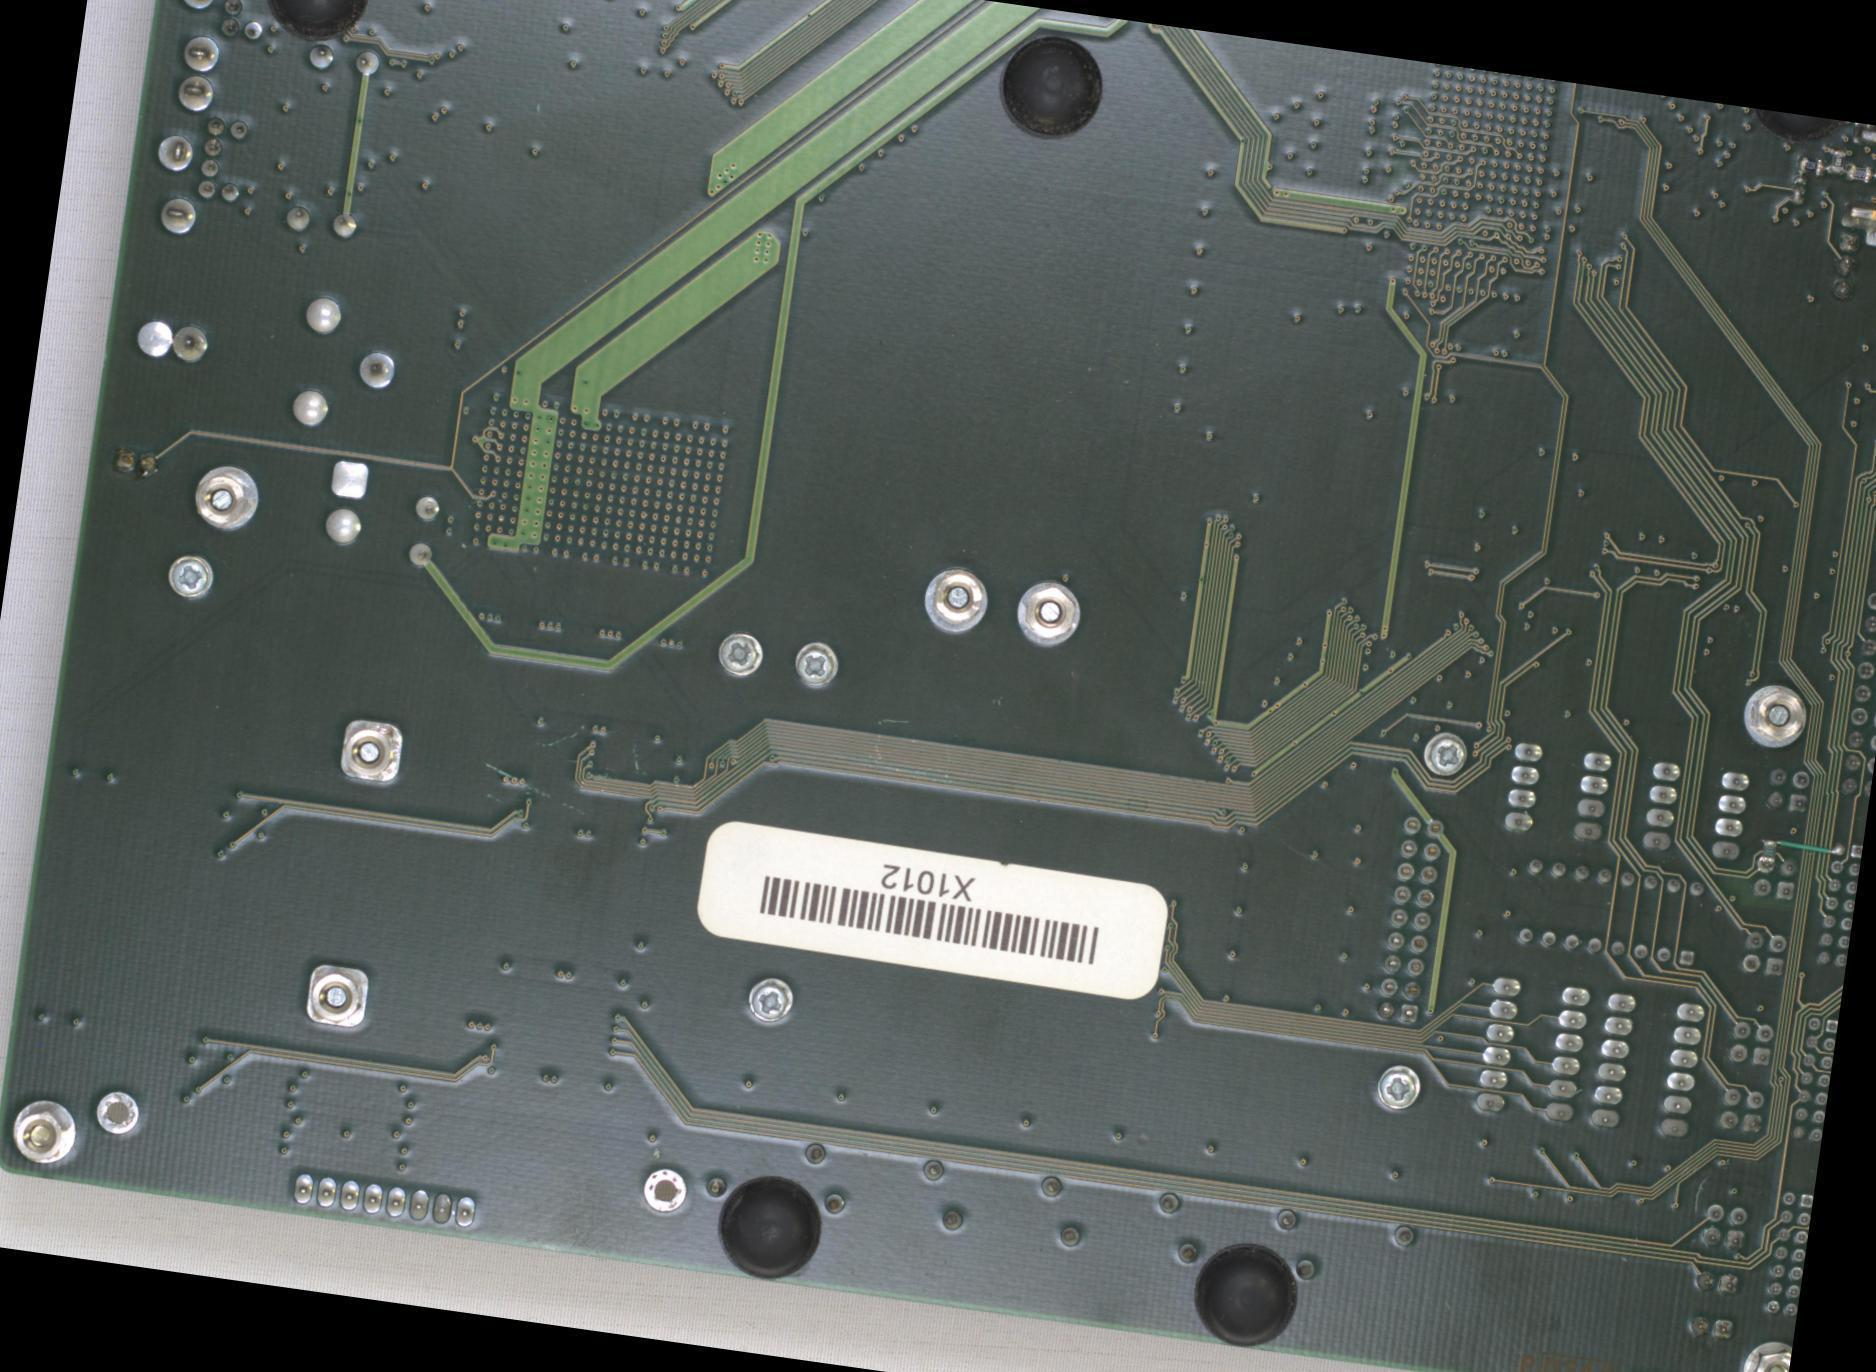Connector: (1834, 122, 1875, 260)
Pins: (696, 1125, 1425, 1300), (1509, 851, 1714, 971), (142, 0, 241, 246), (282, 38, 383, 241), (285, 288, 405, 437), (1372, 811, 1447, 1026), (1543, 982, 1641, 1132), (283, 1164, 483, 1229), (1637, 756, 1754, 863), (1499, 737, 1616, 844), (1834, 586, 1875, 801), (1659, 999, 1713, 1142), (1473, 974, 1525, 1114), (1761, 1186, 1814, 1320), (1813, 837, 1863, 971), (1789, 1013, 1838, 1143), (314, 449, 376, 552), (192, 113, 255, 206), (127, 309, 218, 370), (1685, 1265, 1742, 1341), (403, 487, 450, 572), (1761, 763, 1814, 814), (215, 0, 276, 43), (1717, 1085, 1768, 1136), (1699, 1200, 1750, 1251), (1752, 850, 1802, 901), (1739, 927, 1790, 976), (1728, 1018, 1779, 1067), (1830, 229, 1862, 300)
Resistor: (1826, 147, 1846, 173), (1797, 155, 1821, 175), (1763, 837, 1779, 863), (1847, 163, 1870, 181)
